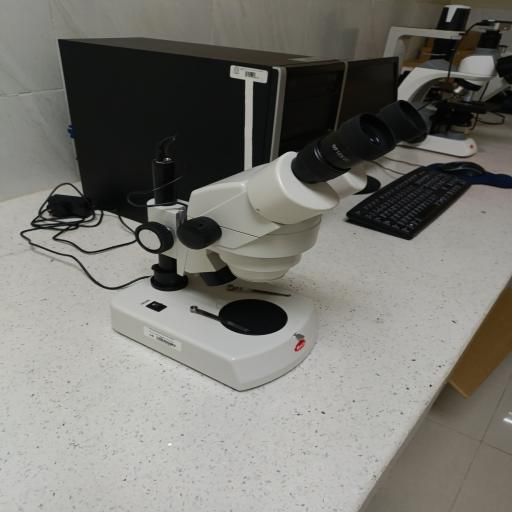Microscopio_estereo: (96, 98, 436, 396)
